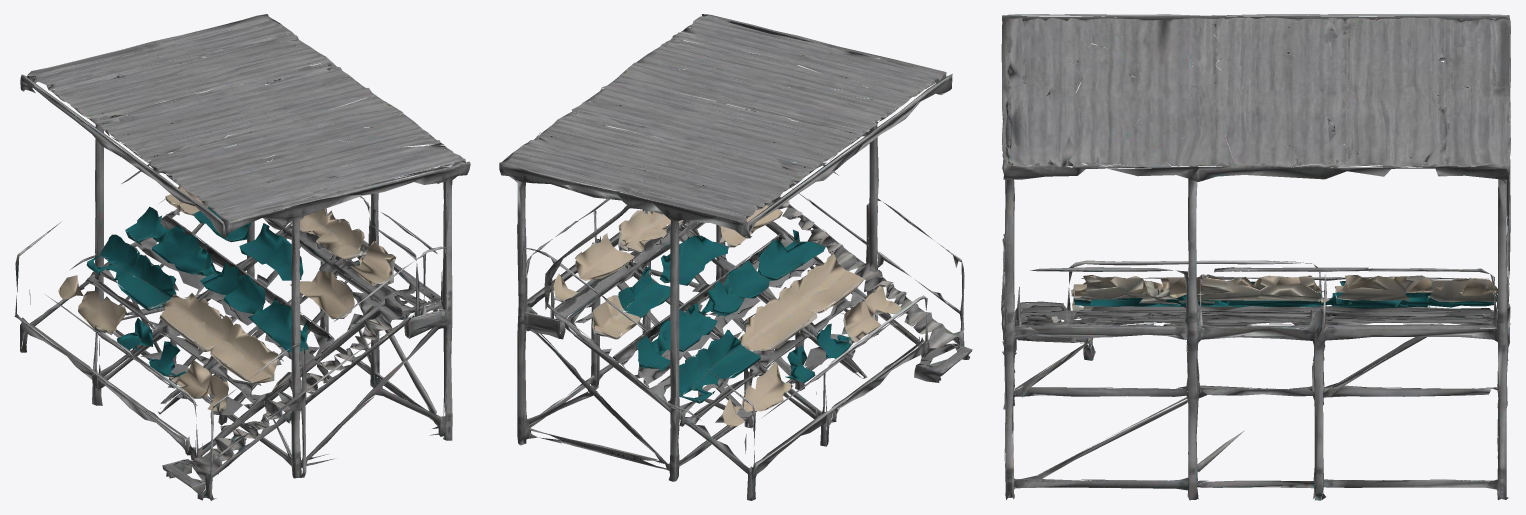
Rendered from kueste_tribuene.glb.
3 renders of one model, left to right at view 1: azimuth 30°, elevation 25°; view 2: azimuth 150°, elevation 25°; view 3: azimuth 270°, elevation 25°, orthographic. The views are drawn at different scales.
Visible parts, largest first — view 1: Prop; view 2: Prop; view 3: Prop.
Part boxes in pixels (bbox=[...]): Prop: bbox=[14, 14, 470, 500]; Prop: bbox=[499, 14, 972, 500]; Prop: bbox=[1001, 14, 1510, 500].
Size of the model in its own units: 1.04 by 1 by 1.34.
1 material, 1 textured.
